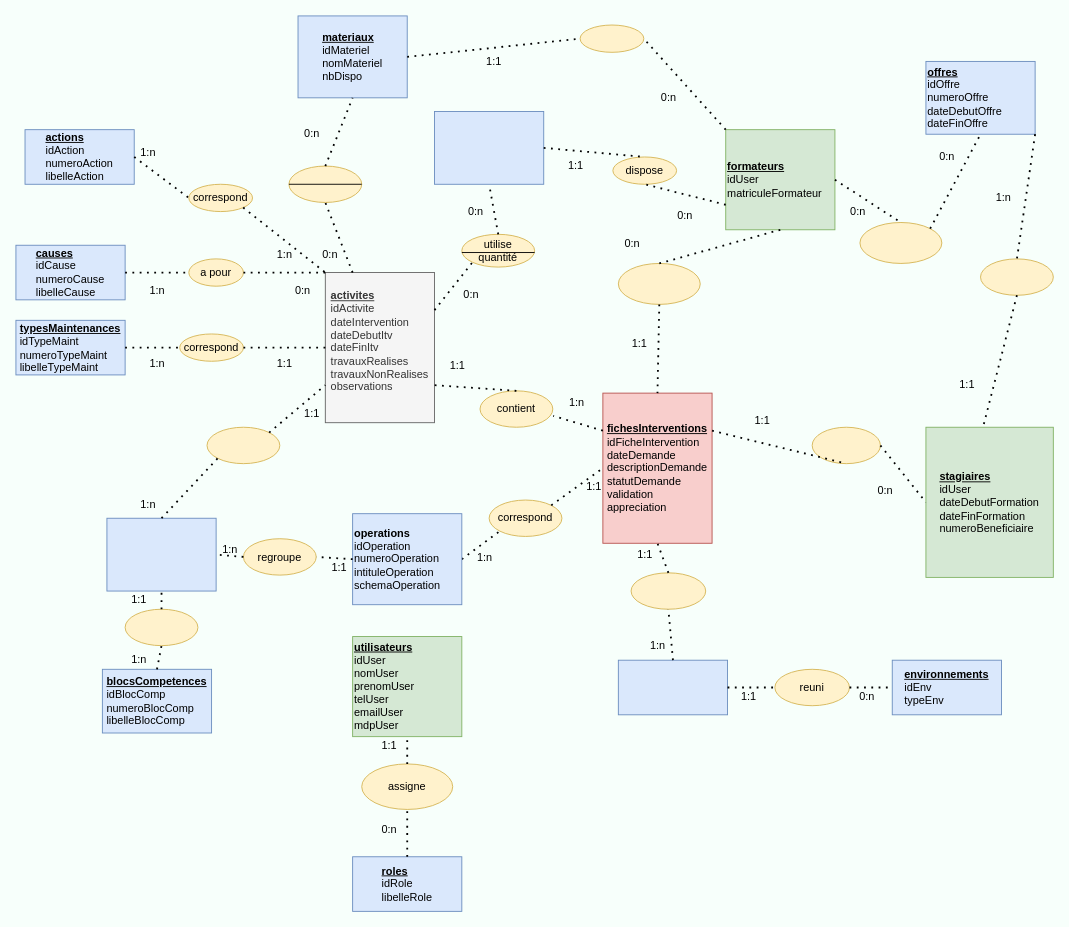
Some shapes in this 1069 by 927 pixel diagram are drawn without their labels. The centre of each missing label's shape, as x and y in pixels:
"anime" goes at (x=900, y=242).
"categorise" goes at (x=161, y=627).
"est de nature" goes at (x=243, y=445).
"lieux idLieu nomLieu" goes at (x=672, y=687).
"mesm idMesm numeroMesm libelleMesm" goes at (x=161, y=554).
"necessite quantité" goes at (x=325, y=183).
"outils idOutil nomOutil nbOutil" goes at (x=489, y=147).
"participe" goes at (x=1016, y=276).
"realise" goes at (x=845, y=445).
"redige" goes at (x=658, y=283).
"situe" goes at (x=668, y=590).
"stocker" goes at (x=611, y=38).
